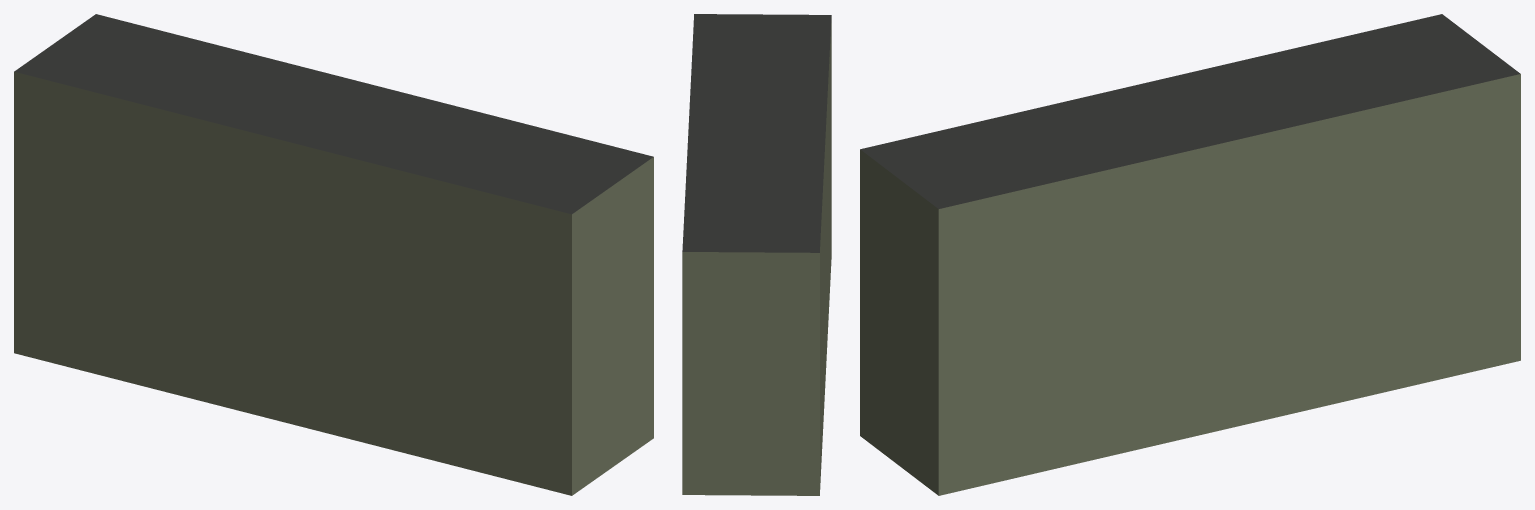
Rendered from nyc-1034216-0.glb.
3 renders of one model, left to right at view 1: azimuth 30°, elevation 25°; view 2: azimuth 150°, elevation 25°; view 3: azimuth 270°, elevation 25°, orthographic. The views are drawn at different scales.
Parts seen in each view (by area): view 1: nyc-1034216-0; view 2: nyc-1034216-0; view 3: nyc-1034216-0.
Boxes of the visible parts, <box> form: nyc-1034216-0: <box>14,14,653,495</box>; nyc-1034216-0: <box>682,14,831,495</box>; nyc-1034216-0: <box>860,14,1520,495</box>.
Bounding box in the file's own units: 20.26 × 13.88 × 28.98.
